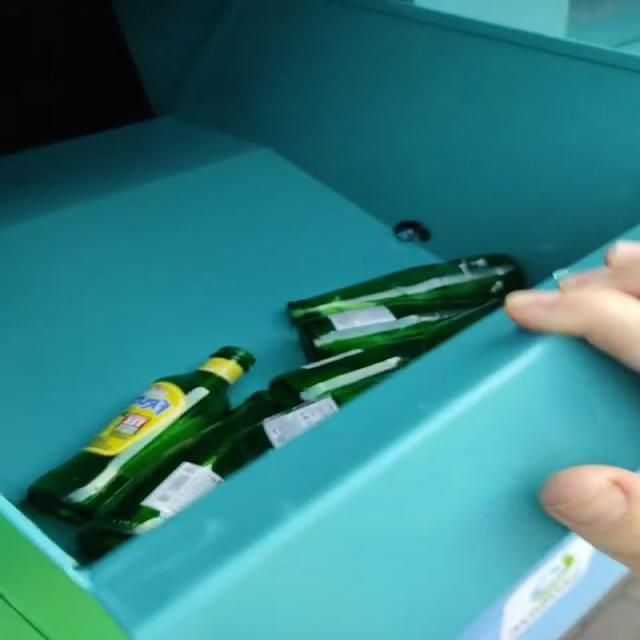Glass: (25, 254, 524, 558)
